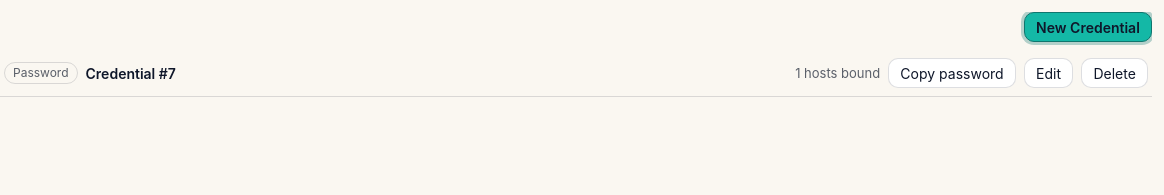
Test: CredentialList 删除确认 › 取消：不发请求，确认条消失
This screenshot has width=1164, height=195.
Click the button with test id "cred-delete-7" at (1115, 73), box [1081,58,1148,88]
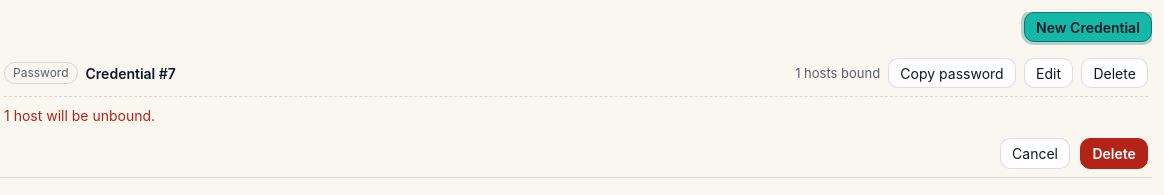
Click the button with test id "cred-cancel-delete" at (1035, 154), box [1000,138,1070,169]
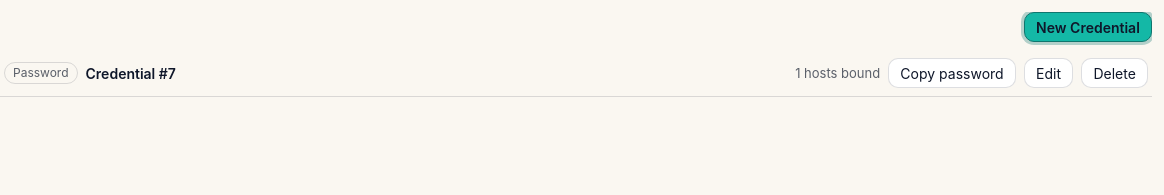
Now the element with test id "cred-confirm-7" is gone
